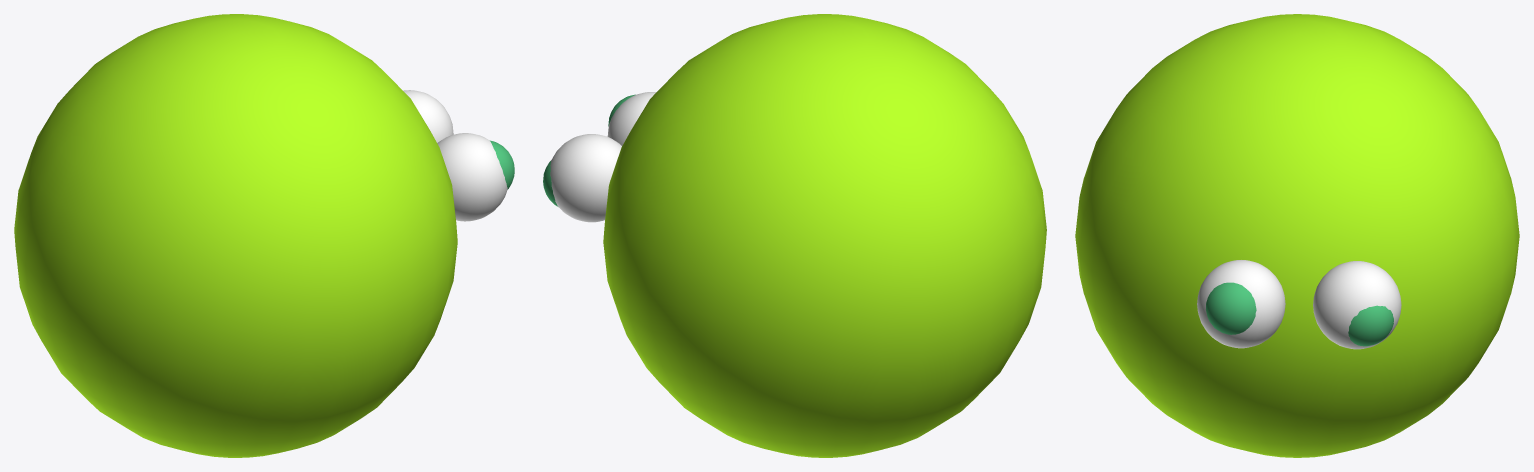
File: whisk.fbx
3 renders of one model, left to right at view 1: azimuth 30°, elevation 25°; view 2: azimuth 150°, elevation 25°; view 3: azimuth 270°, elevation 25°, orthographic.
Parts seen in each view (by area): view 1: Sphere, Sphere.001, Sphere.002, Sphere.004; view 2: Sphere, Sphere.002, Sphere.001; view 3: Sphere, Sphere.002, Sphere.001, Sphere.004, Sphere.003.
Part boxes in pixels (x1,y1,x2,y2): Sphere: (14,14,457,457); Sphere.001: (437,133,507,221); Sphere.002: (403,90,453,142); Sphere.004: (490,140,514,189); Sphere: (603,14,1046,457); Sphere.002: (550,134,621,222); Sphere.001: (607,92,656,145); Sphere: (1075,14,1519,457); Sphere.002: (1313,261,1401,349); Sphere.001: (1197,260,1285,348); Sphere.004: (1206,282,1256,334); Sphere.003: (1348,305,1393,346).
Size of the model in its own units: 392 by 345 by 345.
